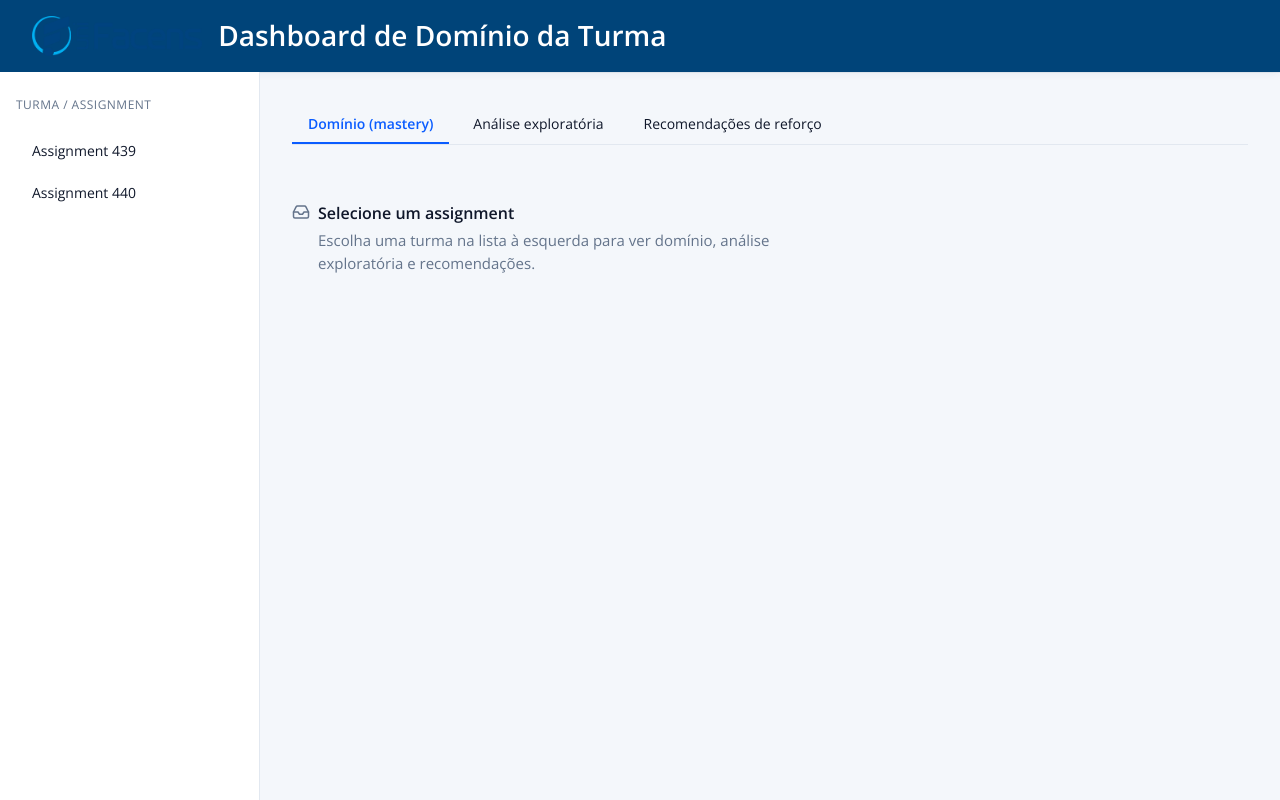
Test: App shell › shows the uncertainty frame for an UNTRAINED assignment too (untrained copy, no all-red grid)
Click the button "Assignment 440": point(130, 192) left=16, top=172, right=243, bottom=212
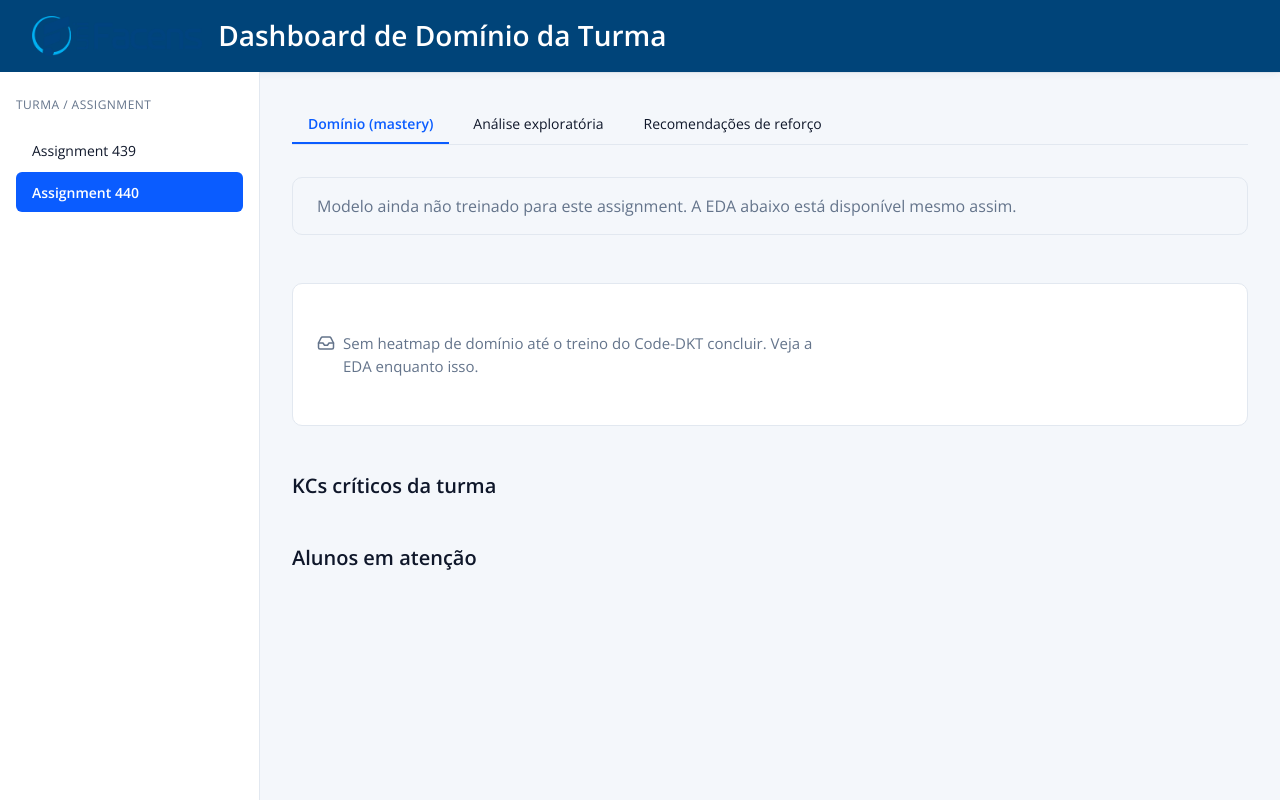
Result: the text "Modelo ainda não treinado para este assignment. A EDA abaixo está disponível mesmo assim." is shown at left=317, top=195, right=1017, bottom=217
